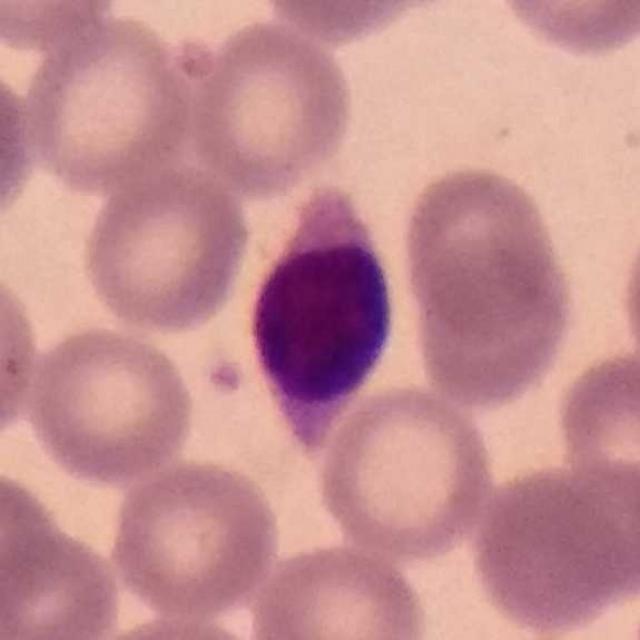Lymphocyte: (240, 178, 407, 429)
RBC: (394, 158, 579, 385), (15, 9, 198, 195), (312, 381, 498, 564), (182, 16, 358, 198), (77, 164, 254, 338), (466, 458, 639, 636), (22, 321, 198, 488), (105, 455, 282, 621), (247, 538, 433, 640), (0, 521, 125, 640), (551, 347, 640, 503), (0, 464, 65, 630), (489, 0, 640, 60), (253, 0, 445, 45), (0, 260, 43, 451), (0, 56, 37, 232), (0, 0, 124, 51), (78, 611, 270, 640), (615, 200, 640, 395)
